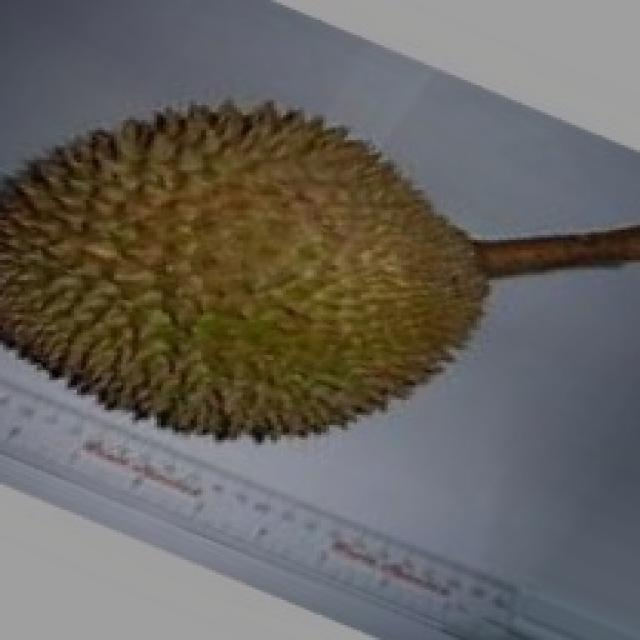fruit: (166, 43, 539, 505), (0, 68, 360, 498)
